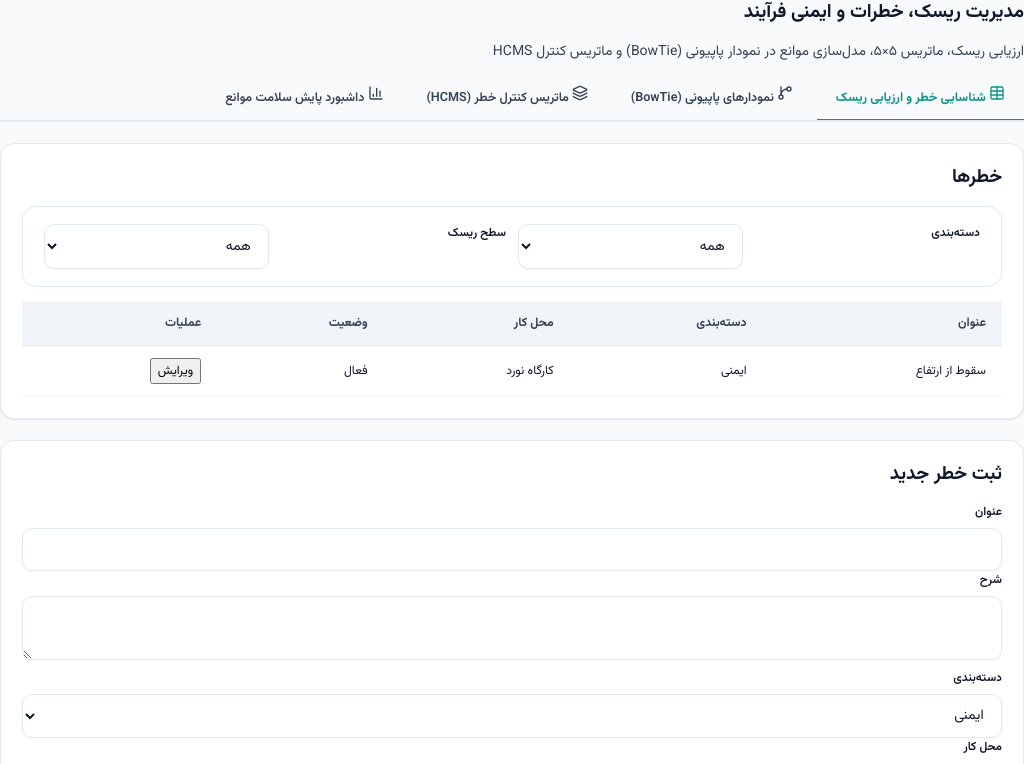
Scenario: RisksPage — Phase 11 BowTie & HCMS › renders traditional risk matrix tab and switches to BowTie visualizer
Expected: the text "سقوط از ارتفاع" is shown, [763,346,1002,396]
// Click BowTie tab
Click the button "نمودارهای پاپیونی (BowTie)".
click(712, 98)  # box [612,75,812,122]
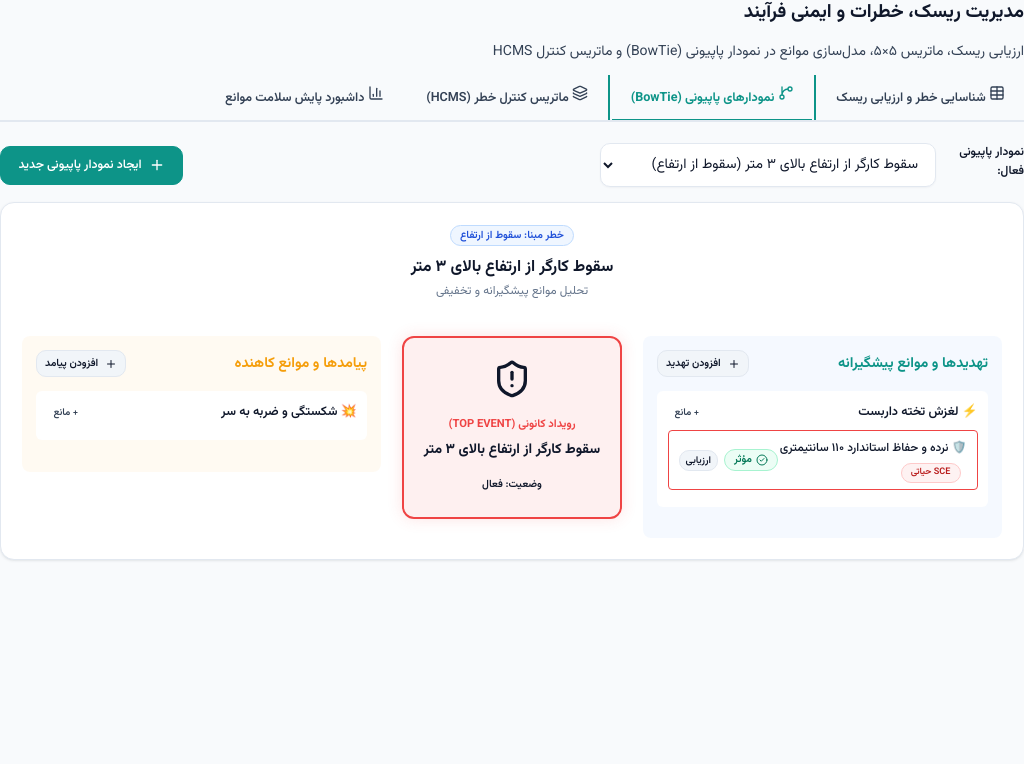
Expected: the heading "سقوط کارگر از ارتفاع بالای ۳ متر" below "خطر مبنا:" is shown, [411,254,613,280]
Expected: the text "⚡ لغزش تخته داربست" is shown, [858,402,978,423]
Expected: the text "🛡️ نرده و حفاظ استاندارد ۱۱۰ سانتیمتری" is shown, [780,439,966,457]
